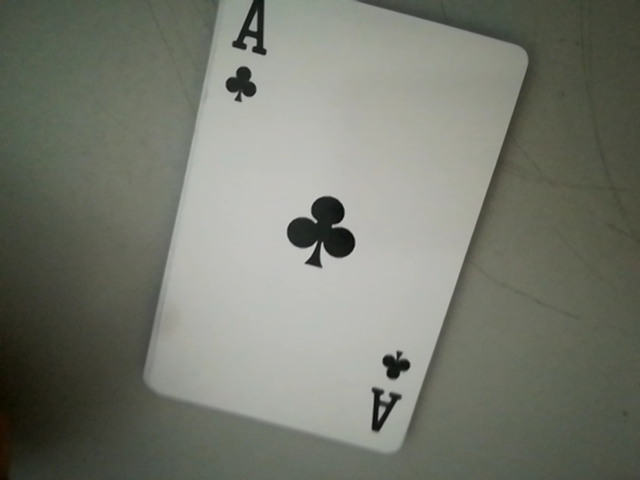mh a: (211, 5, 275, 113), (366, 344, 421, 448)
